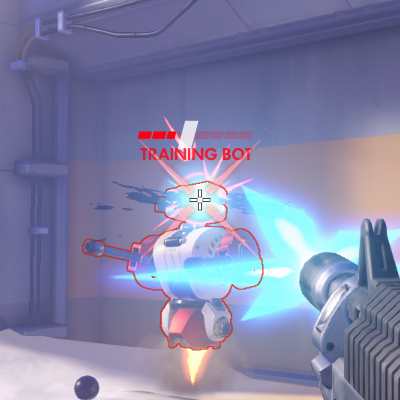hpbar: (137, 130, 253, 140)
